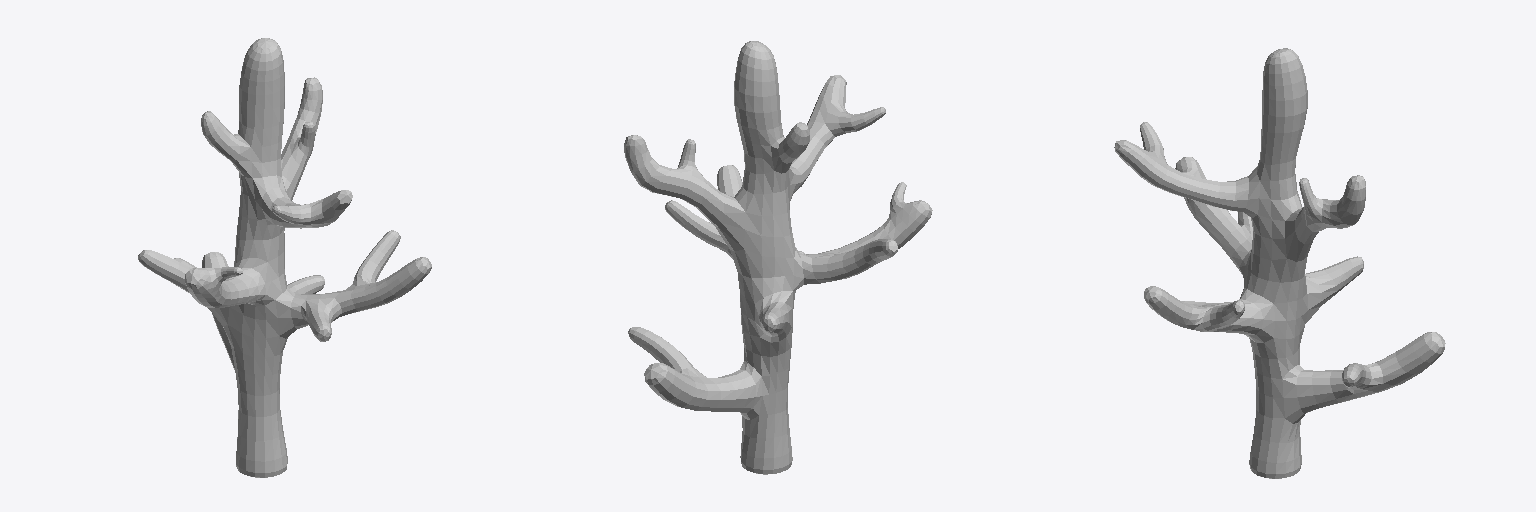
The model's file is Coral_A_02_LOD0.obj.
The picture shows the model from 3 angles: view 1: azimuth 30°, elevation 25°; view 2: azimuth 150°, elevation 25°; view 3: azimuth 270°, elevation 25°; orthographic projection.
Visible parts, largest first — view 1: Coral_A_02_LOD0_Cylinder.313; view 2: Coral_A_02_LOD0_Cylinder.313; view 3: Coral_A_02_LOD0_Cylinder.313.
Part boxes in pixels (x1,y1,x2,y2): Coral_A_02_LOD0_Cylinder.313: (138, 38, 431, 477); Coral_A_02_LOD0_Cylinder.313: (624, 41, 932, 474); Coral_A_02_LOD0_Cylinder.313: (1114, 48, 1445, 478).
Bounding box in the file's own units: 6 × 9.85 × 6.97.